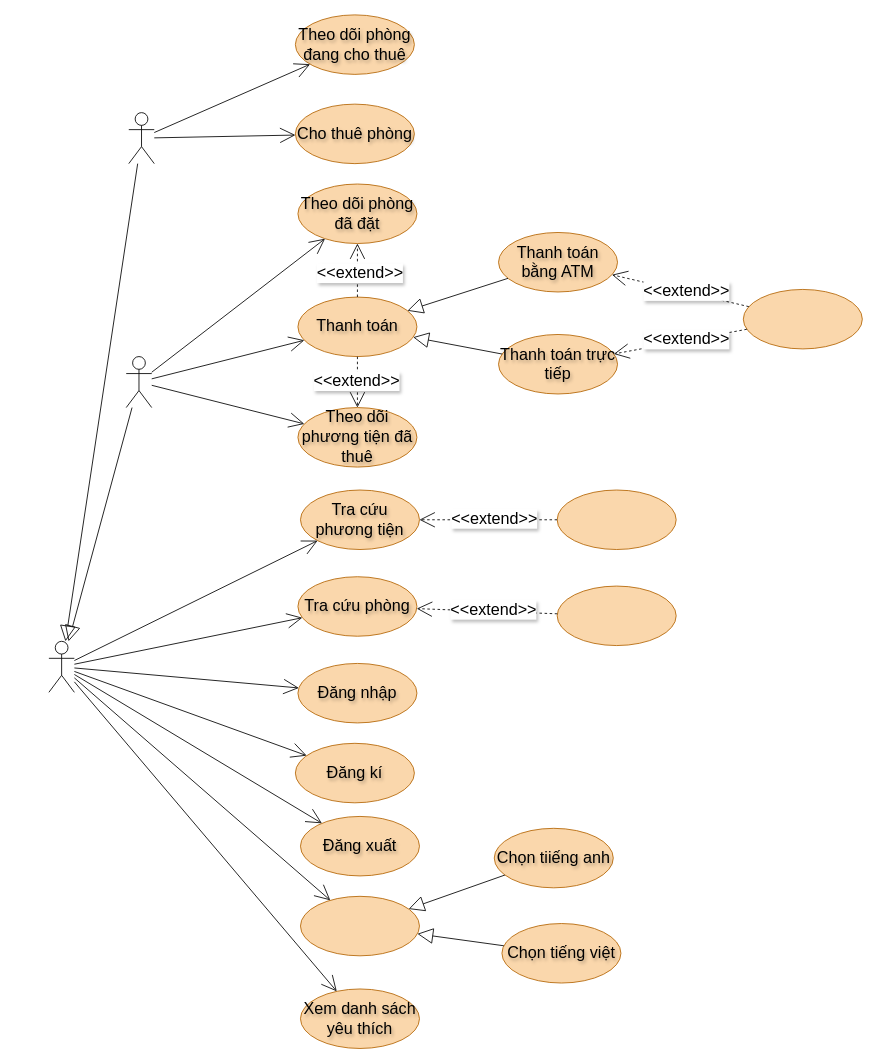
The diagram is 877 pixels wide and 1063 high, and some of its shapes have lost their labels. The centre of each missing label's shape, as x and y in pixels:
Chọn ngôn ngữ: pixel 359 925
Chủ khách sạn: pixel 141 138
Du khách: pixel 138 382
Người dùng: pixel 61 666
Thuê phòng: pixel 616 615
Thuê phương tiện: pixel 616 519
Xem hóa đơn: pixel 802 319
